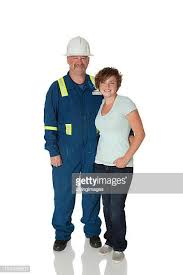Person_wearing_helmet: (60, 32, 96, 57)
